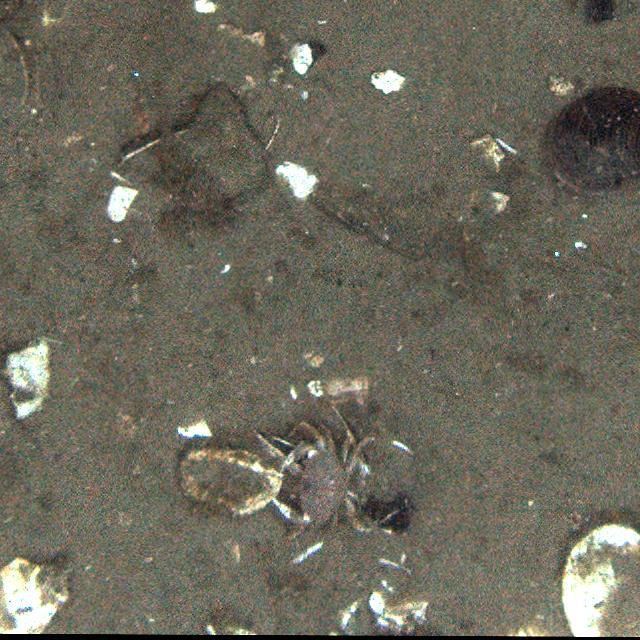crab: (286, 417, 365, 538)
